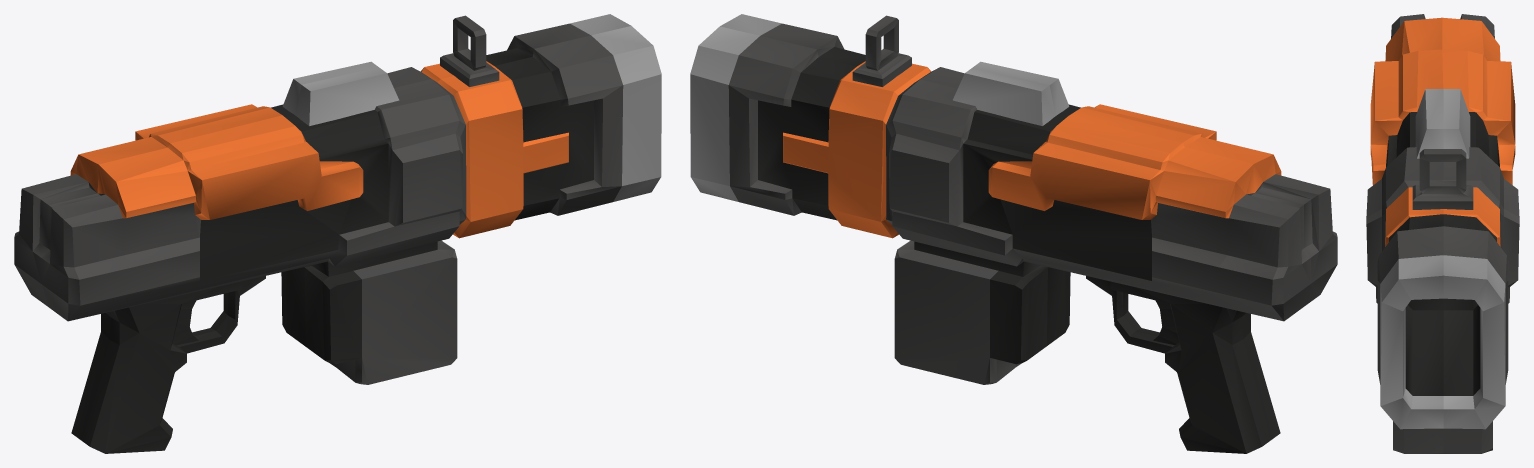
File: Cluster Missile.fbx
The picture shows the model from 3 angles, left to right: view 1: azimuth 30°, elevation 25°; view 2: azimuth 150°, elevation 25°; view 3: azimuth 270°, elevation 25°; orthographic projection. The views are drawn at different scales.
Parts seen in each view (by area): view 1: Mesh; view 2: Mesh; view 3: Mesh.
Boxes of the visible parts, box(x1,y1,x2,y2) form: Mesh: box(14, 14, 661, 453); Mesh: box(690, 14, 1337, 453); Mesh: box(1366, 14, 1519, 453).
Size of the model in its own units: 96.93 by 21.29 by 53.16.
